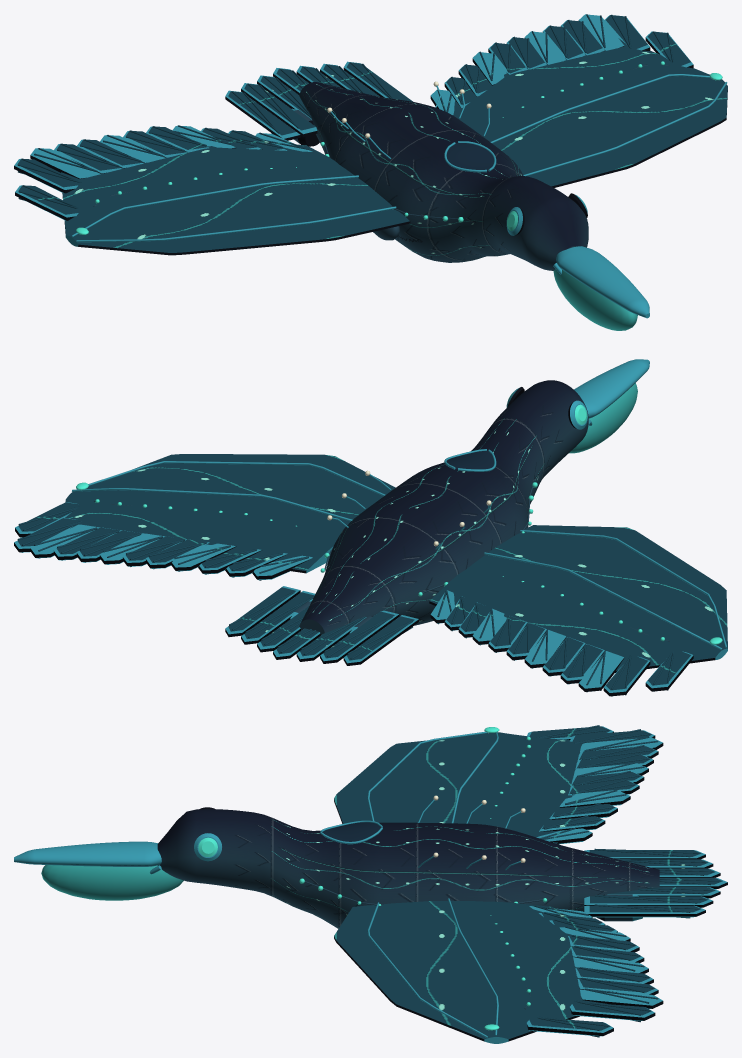
3 views of the same model, one above another, from view 1: azimuth 30°, elevation 25°; view 2: azimuth 150°, elevation 25°; view 3: azimuth 270°, elevation 25° (orthographic). The views are drawn at different scales.
Parts seen in each view (by area): view 1: pelican_hull; view 2: pelican_hull; view 3: pelican_hull.
Part boxes in pixels (<box>): pelican_hull: <box>14,14,727,330</box>; pelican_hull: <box>14,359,727,696</box>; pelican_hull: <box>14,725,727,1043</box>.
Size of the model in its own units: 86 by 16.31 by 84.67.
1 material, 1 textured.
